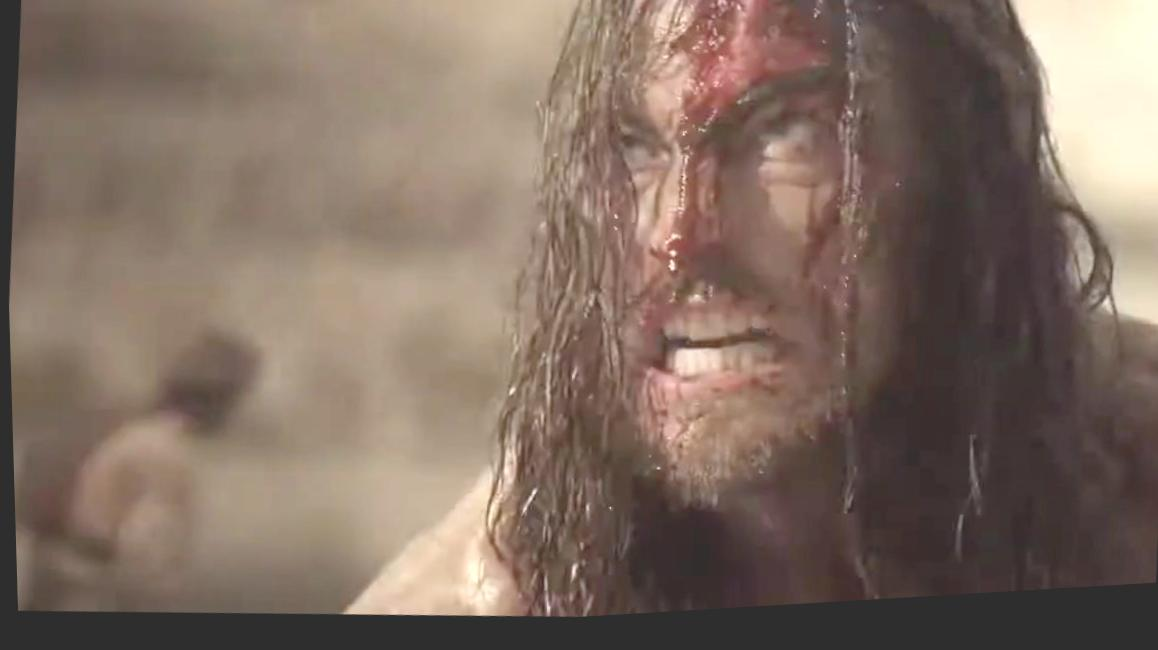Fire: (620, 0, 845, 356)
